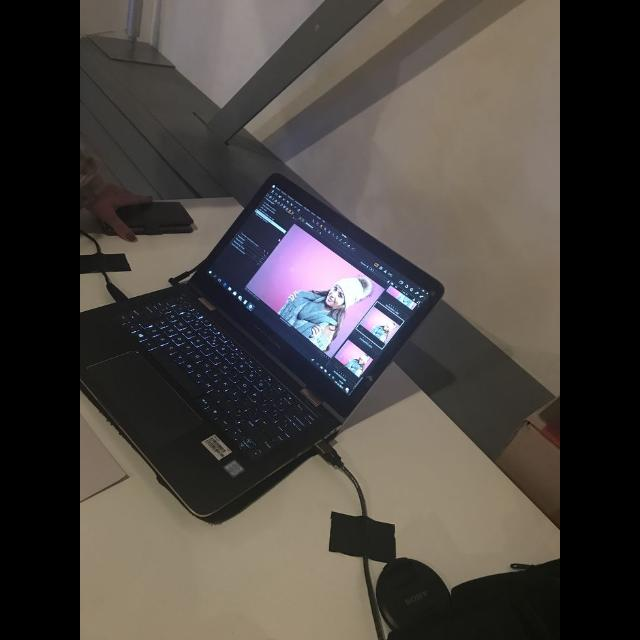laptop: (80, 173, 444, 521)
